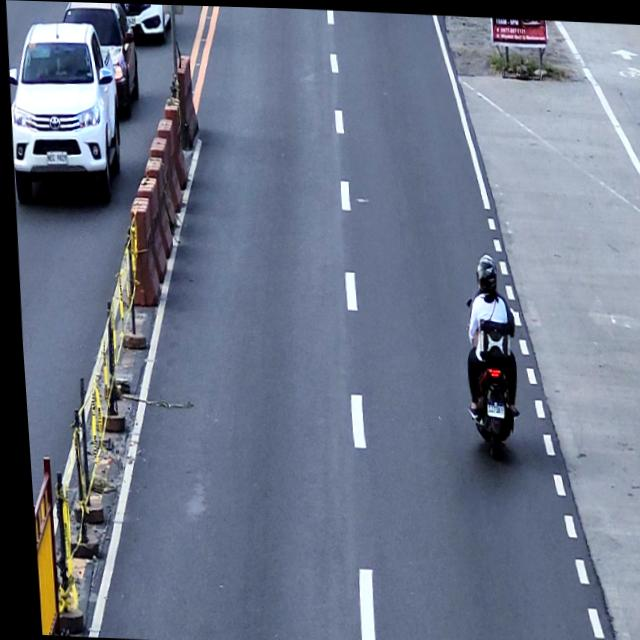Car: (3, 19, 123, 207), (57, 1, 141, 117), (113, 3, 174, 42)
License-Plate: (43, 150, 66, 165), (480, 400, 499, 414), (125, 15, 136, 24)
Motorcycle: (458, 290, 517, 456)
